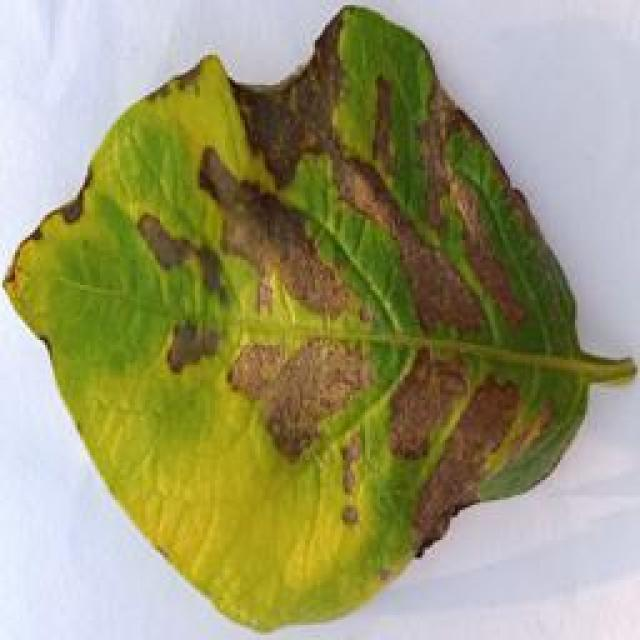Potato_Late_Blight: (5, 10, 635, 640)
